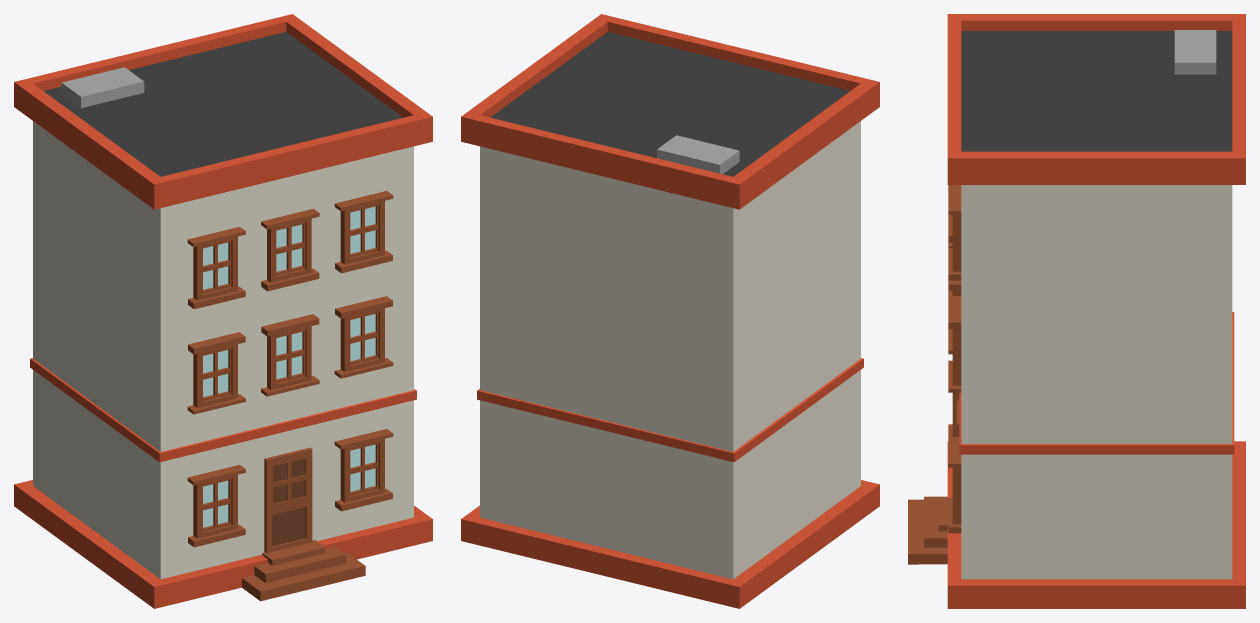
Rendered from q_Flat.glb.
The picture shows the model from 3 angles, left to right: view 1: azimuth 30°, elevation 25°; view 2: azimuth 150°, elevation 25°; view 3: azimuth 270°, elevation 25°; orthographic projection. The views are drawn at different scales.
Visible parts, largest first — view 1: Flat1; view 2: Flat1; view 3: Flat1.
Part boxes in pixels (x1=…): Flat1: x1=14, y1=14, x2=432, y2=608; Flat1: x1=461, y1=14, x2=879, y2=608; Flat1: x1=908, y1=14, x2=1245, y2=608.
Size of the model in its own units: 2.17 by 3.17 by 2.14.
Materials: 1 (1 with a texture image).
